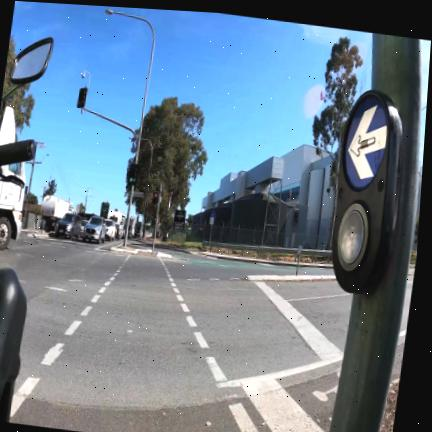Green_Bike_Lane: (177, 258, 248, 267)
